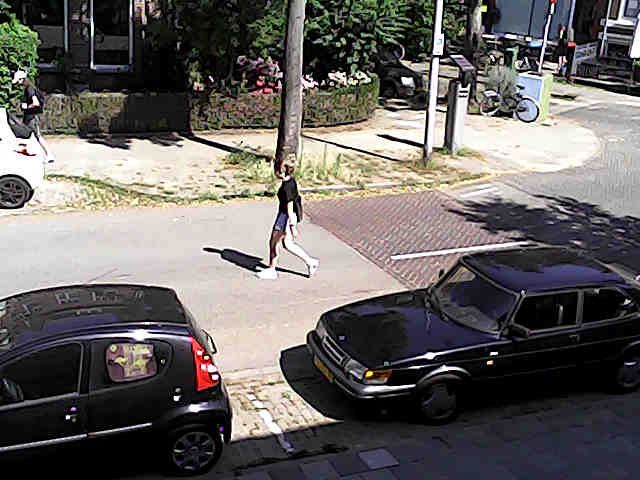male: (256, 161, 318, 279), (12, 70, 53, 162)
suv: (307, 245, 639, 422), (0, 284, 231, 473), (0, 107, 45, 208)
